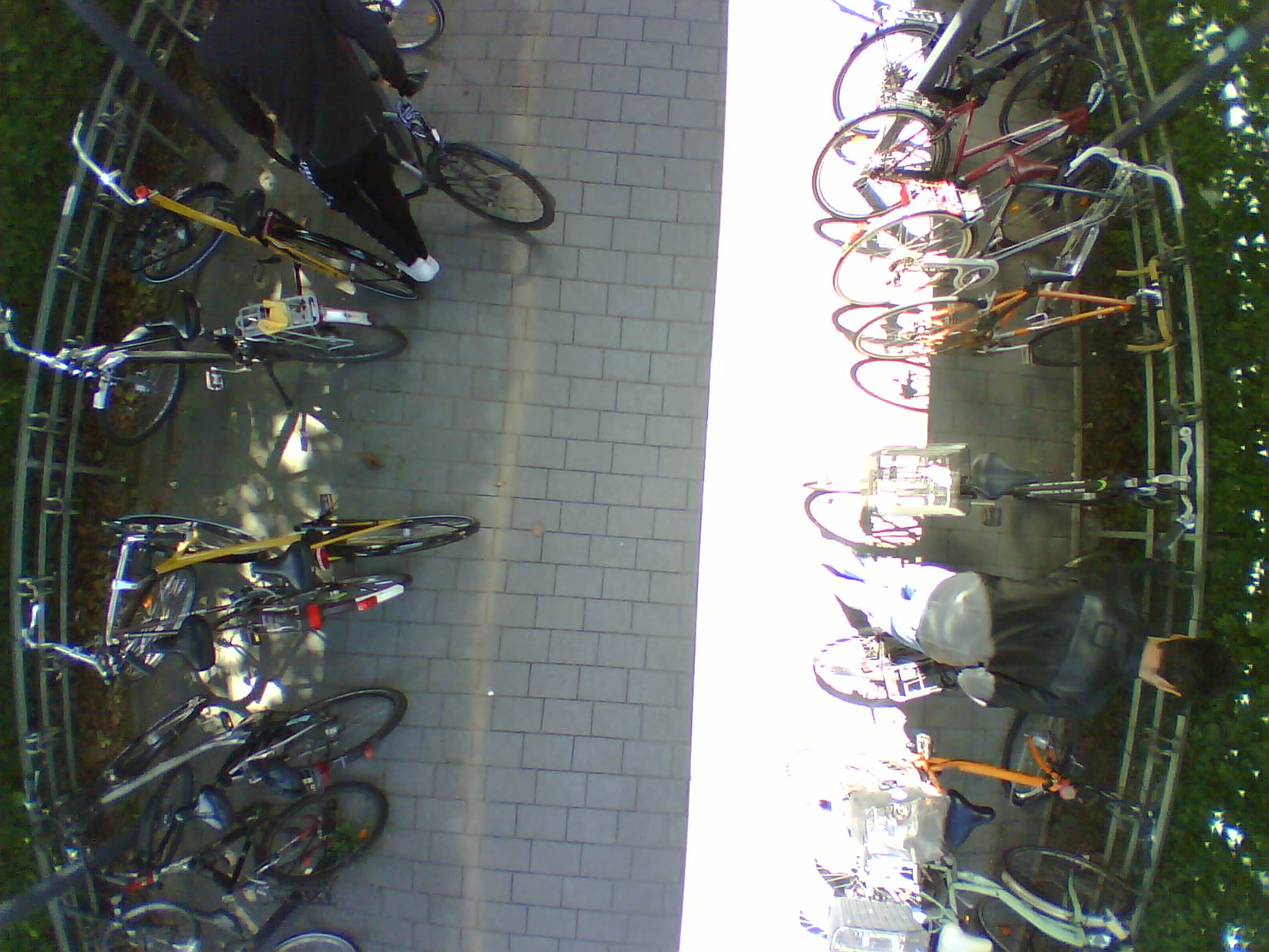bicylce: (80, 689, 408, 916), (86, 490, 482, 658), (807, 40, 1152, 221), (830, 141, 1190, 309), (251, 60, 558, 238), (795, 417, 1200, 551), (60, 779, 389, 942), (773, 705, 1162, 841), (78, 290, 407, 446), (107, 170, 425, 301), (848, 248, 1187, 367), (80, 581, 416, 696), (830, 0, 1111, 133), (800, 826, 1148, 920), (784, 887, 1135, 952)
saddle: (148, 608, 217, 670), (937, 776, 996, 848), (960, 443, 1037, 498), (134, 281, 203, 340), (247, 541, 320, 595), (171, 785, 233, 835), (206, 182, 265, 232), (1001, 141, 1061, 186), (1016, 245, 1076, 290), (367, 58, 432, 99), (952, 38, 1006, 86), (934, 912, 991, 952), (187, 900, 246, 935)
